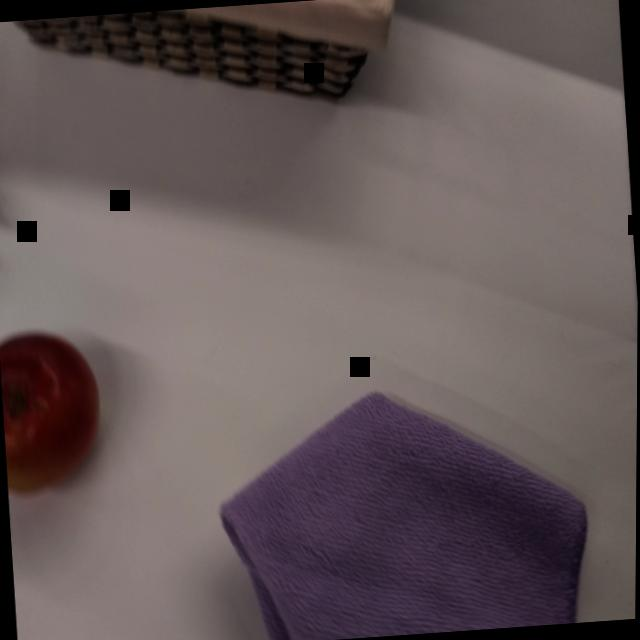apple: (0, 320, 112, 500)
